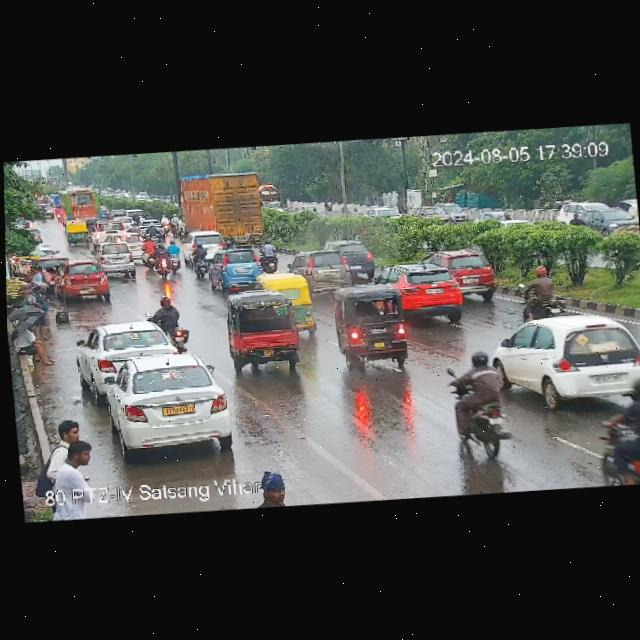bus: (50, 186, 104, 225)
car: (87, 349, 234, 458), (492, 314, 640, 409), (77, 318, 182, 386), (333, 284, 415, 368), (366, 261, 471, 322), (222, 290, 302, 367), (421, 246, 502, 294), (254, 270, 315, 324), (556, 198, 637, 235), (205, 246, 263, 290), (53, 261, 111, 300), (291, 249, 357, 282), (334, 240, 376, 277), (95, 242, 137, 276), (416, 195, 461, 222), (186, 230, 227, 255), (88, 220, 127, 246), (63, 218, 91, 245)
motorcycle: (452, 351, 512, 457), (603, 371, 640, 485), (515, 267, 570, 309), (150, 240, 183, 279), (162, 239, 186, 275)
person: (48, 445, 100, 494), (46, 415, 92, 459), (14, 320, 56, 366), (152, 295, 186, 347), (255, 468, 289, 507), (260, 239, 281, 270), (28, 266, 53, 292)
truck: (174, 168, 287, 249)
